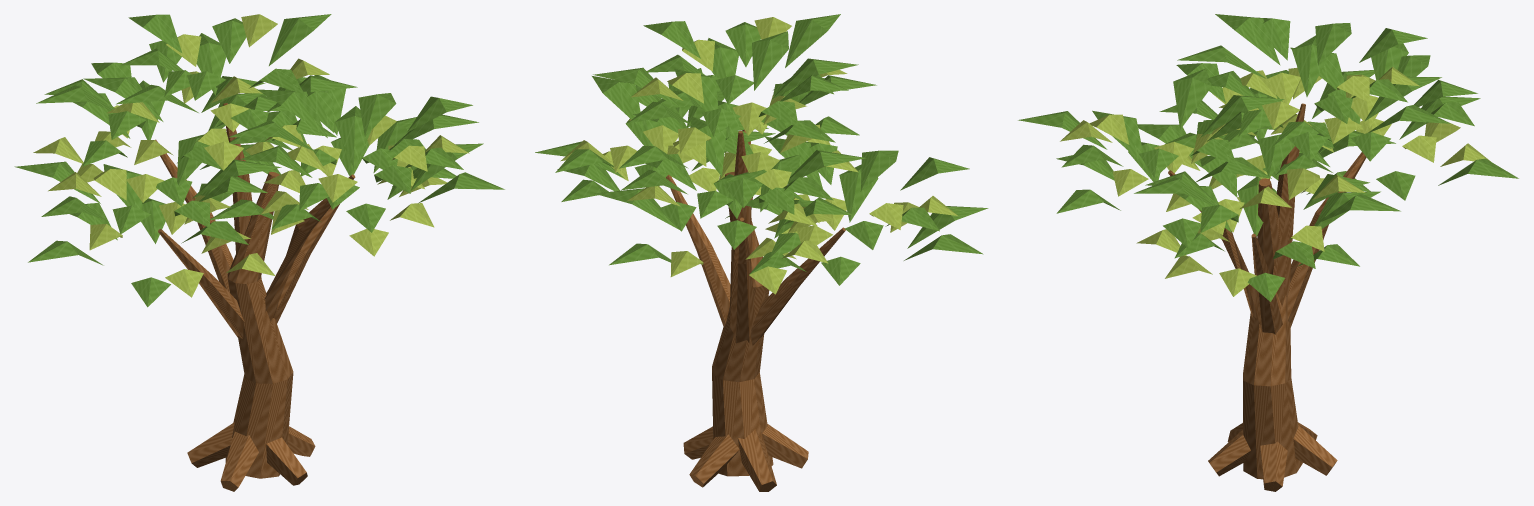
Rendered from tree-broadleaf.glb.
3 views of the same model, side by side, from view 1: azimuth 30°, elevation 25°; view 2: azimuth 150°, elevation 25°; view 3: azimuth 270°, elevation 25° (orthographic).
Parts seen in each view (by area): view 1: tree-trunk, leaf-cluster-5, leaf-cluster-3, leaf-cluster-1, leaf-cluster-4, leaf-cluster-2; view 2: tree-trunk, leaf-cluster-4, leaf-cluster-3, leaf-cluster-1, leaf-cluster-5, leaf-cluster-2; view 3: tree-trunk, leaf-cluster-3, leaf-cluster-2, leaf-cluster-5, leaf-cluster-4, leaf-cluster-1.
Part boxes in pixels (x1=…): tree-trunk: x1=155, y1=103, x2=355, y2=491; leaf-cluster-5: x1=228, y1=89, x2=504, y2=232; leaf-cluster-3: x1=83, y1=14, x2=357, y2=170; leaf-cluster-1: x1=14, y1=134, x2=281, y2=307; leaf-cluster-4: x1=33, y1=40, x2=288, y2=206; leaf-cluster-2: x1=210, y1=75, x2=478, y2=256; tree-trunk: x1=666, y1=129, x2=845, y2=491; leaf-cluster-4: x1=594, y1=116, x2=866, y2=294; leaf-cluster-3: x1=593, y1=31, x2=858, y2=207; leaf-cluster-1: x1=718, y1=136, x2=988, y2=285; leaf-cluster-5: x1=628, y1=14, x2=876, y2=163; leaf-cluster-2: x1=535, y1=68, x2=775, y2=231; tree-trunk: x1=1168, y1=103, x2=1366, y2=491; leaf-cluster-3: x1=1177, y1=14, x2=1450, y2=161; leaf-cluster-2: x1=1134, y1=134, x2=1400, y2=301; leaf-cluster-5: x1=1018, y1=68, x2=1291, y2=248; leaf-cluster-4: x1=1259, y1=43, x2=1518, y2=200; leaf-cluster-1: x1=1137, y1=63, x2=1395, y2=211.
Bounding box in the file's own units: 3.15 × 2.98 × 3.22.
Materials: 1 (1 with a texture image).
